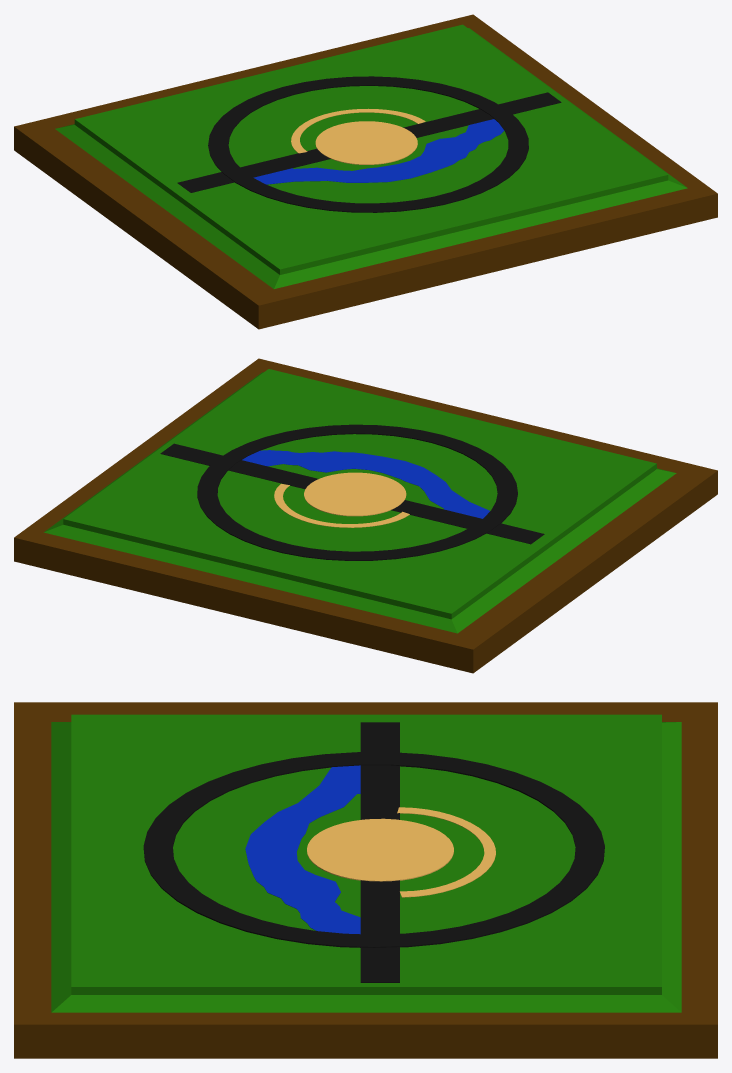
3 views of the same model, one above another, from view 1: azimuth 30°, elevation 25°; view 2: azimuth 150°, elevation 25°; view 3: azimuth 270°, elevation 25° (orthographic). The views are drawn at different scales.
Parts seen in each view (by area): view 1: Box001, Box004, Cylinder001, Box005, Cylinder004, Box003, Box002; view 2: Box001, Box004, Cylinder001, Box005, Cylinder004, Box003, Box002; view 3: Box001, Box004, Cylinder001, Box005, Cylinder004, Box003, Box002.
Part boxes in pixels (x1,y1,x2,y2): Box001: (55, 24, 687, 288); Box004: (14, 14, 717, 329); Cylinder001: (208, 76, 528, 212); Box005: (253, 119, 504, 184); Cylinder004: (315, 121, 417, 164); Box003: (177, 92, 561, 192); Box002: (291, 108, 425, 153); Box001: (44, 369, 676, 633); Box004: (14, 358, 717, 673); Cylinder001: (197, 424, 517, 560); Box005: (242, 450, 489, 518); Cylinder004: (304, 472, 406, 516); Box003: (160, 443, 544, 544); Box002: (274, 483, 409, 527); Box001: (51, 714, 681, 1012); Box004: (14, 702, 717, 1058); Cylinder001: (143, 752, 604, 947); Box005: (245, 765, 360, 934); Cylinder004: (307, 818, 453, 881); Box003: (360, 722, 399, 982); Box002: (397, 807, 495, 897).
Bounding box in the file's own units: 1743 × 131 × 1609.
